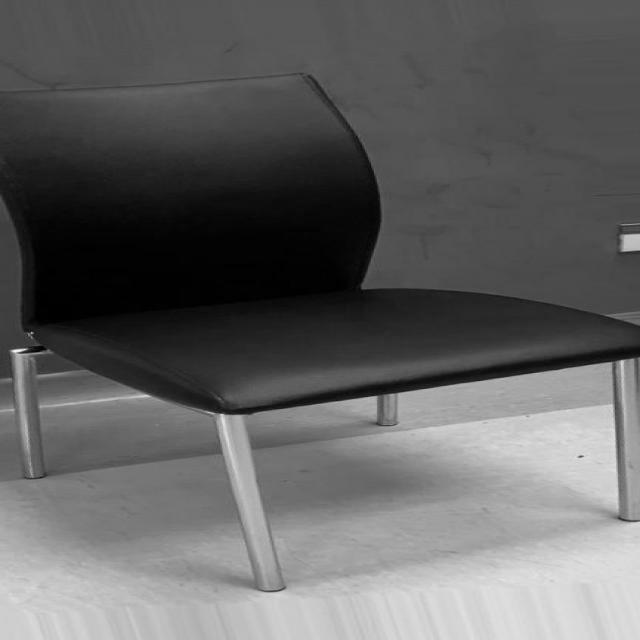chair: (3, 69, 640, 597)
